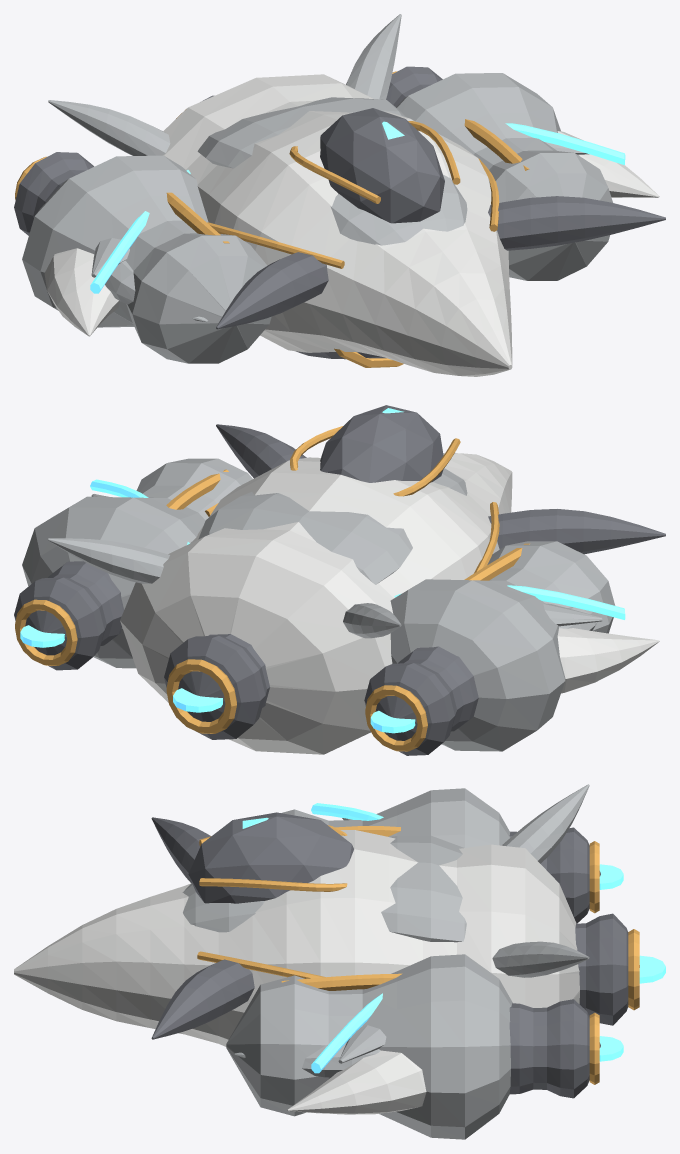
The model's file is SL_MERIDIAN_LOD.glb.
The picture shows the model from 3 angles, top to bottom: view 1: azimuth 30°, elevation 25°; view 2: azimuth 150°, elevation 25°; view 3: azimuth 270°, elevation 25°; orthographic projection.
Visible parts, largest first — view 1: plate, armor, dark, accent, energy; view 2: armor, plate, dark, accent, energy; view 3: armor, plate, dark, accent, energy.
Boxes of the visible parts, left/top/right/bottom form: plate: left=22, top=14, right=612, bottom=363; armor: left=44, top=74, right=659, bottom=376; dark: left=14, top=66, right=665, bottom=359; accent: left=15, top=71, right=529, bottom=367; energy: left=90, top=121, right=625, bottom=293; armor: left=120, top=453, right=659, bottom=754; plate: left=22, top=458, right=615, bottom=751; dark: left=14, top=405, right=665, bottom=755; accent: left=15, top=426, right=529, bottom=751; energy: left=20, top=408, right=625, bottom=733; armor: left=14, top=830, right=579, bottom=1114; plate: left=182, top=784, right=589, bottom=1139; dark: left=151, top=812, right=639, bottom=1098; accent: left=197, top=825, right=639, bottom=1084; energy: left=242, top=803, right=665, bottom=1073.
Size of the model in its own units: 5.39 by 2.29 by 5.31.
